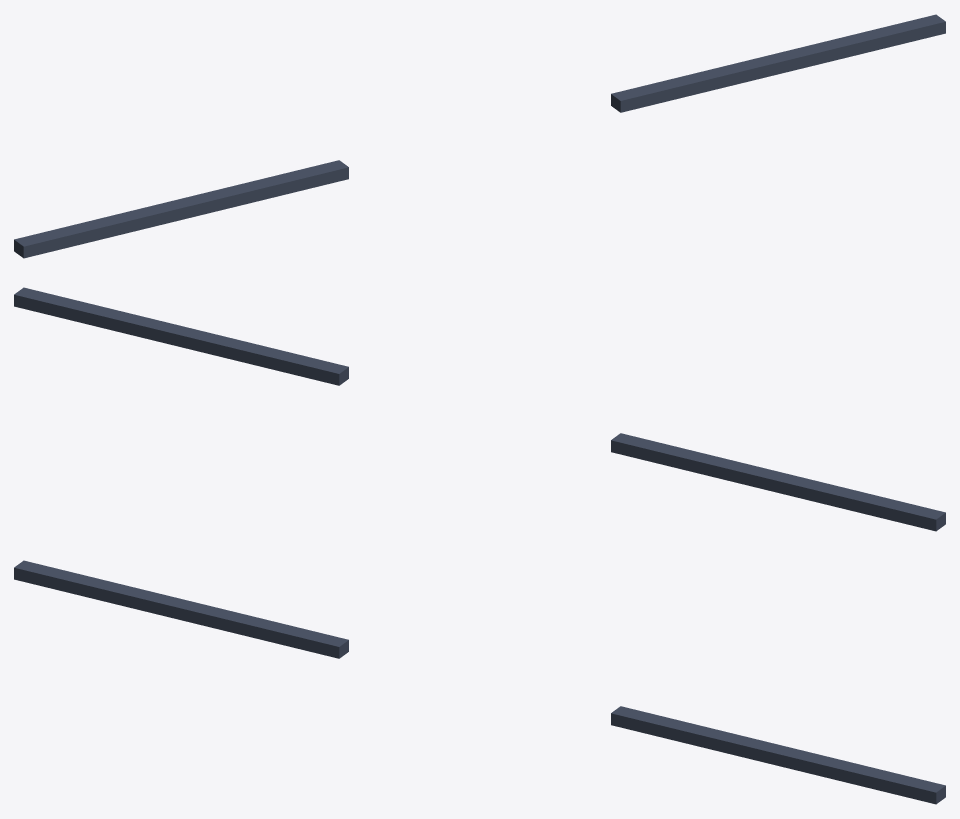
The model's file is EndWalls_Trim.fbx.
3 views of the same model, one above another, from view 1: azimuth 30°, elevation 25°; view 2: azimuth 150°, elevation 25°; view 3: azimuth 330°, elevation 25° (orthographic).
Visible parts, largest first — view 1: EndCornice-1.001; view 2: EndCornice-1.001; view 3: EndCornice-1.001.
Boxes of the visible parts, x1,y1,x2,y2 form: EndCornice-1.001: (14, 14, 945, 258); EndCornice-1.001: (14, 287, 945, 531); EndCornice-1.001: (14, 560, 945, 804).
Bounding box in the file's own units: 16300 × 200 × 300.
